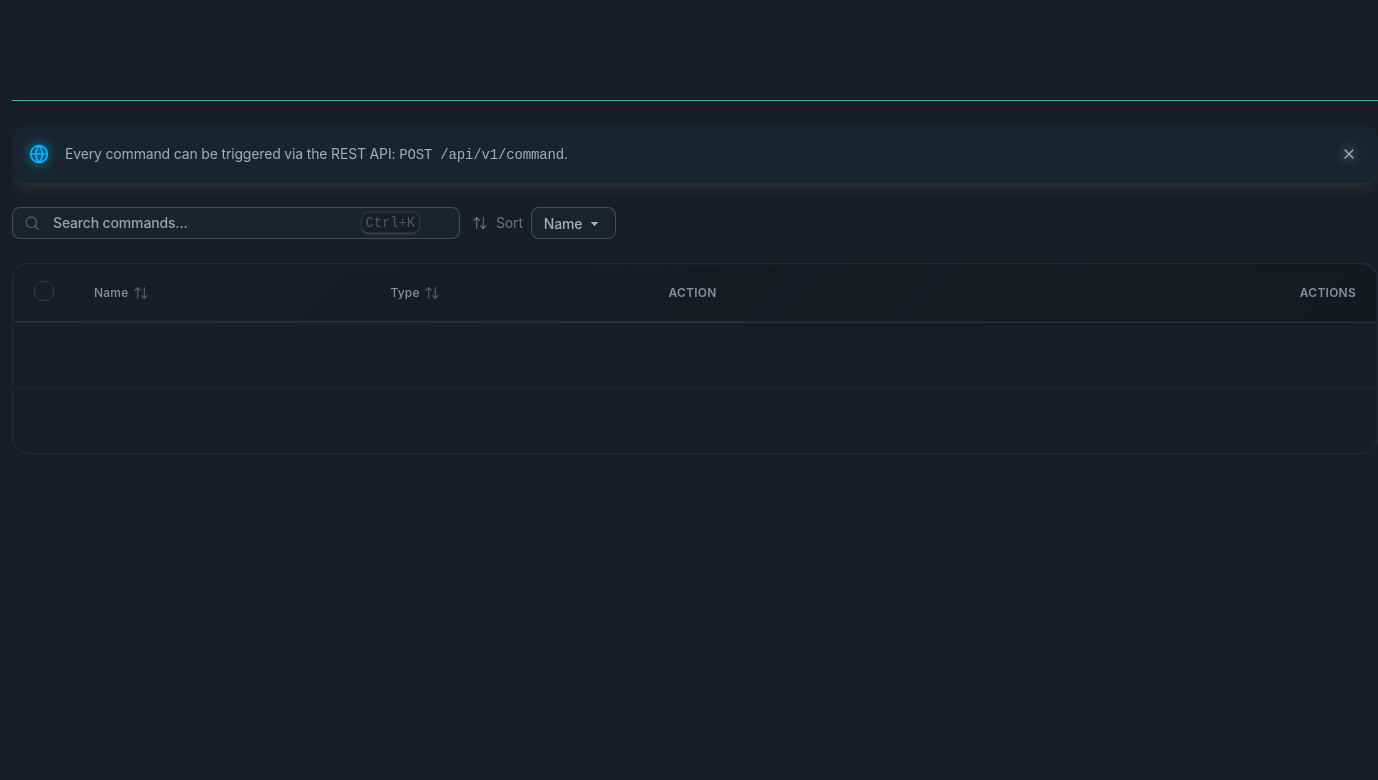
Test: the select-all checkbox selects every visible command and shows the bulk bar
The table's select-all header checkbox selects all filtered commands.
Click the checkbox named "Select all commands". click: (44, 291)
box: [34,281,54,301]
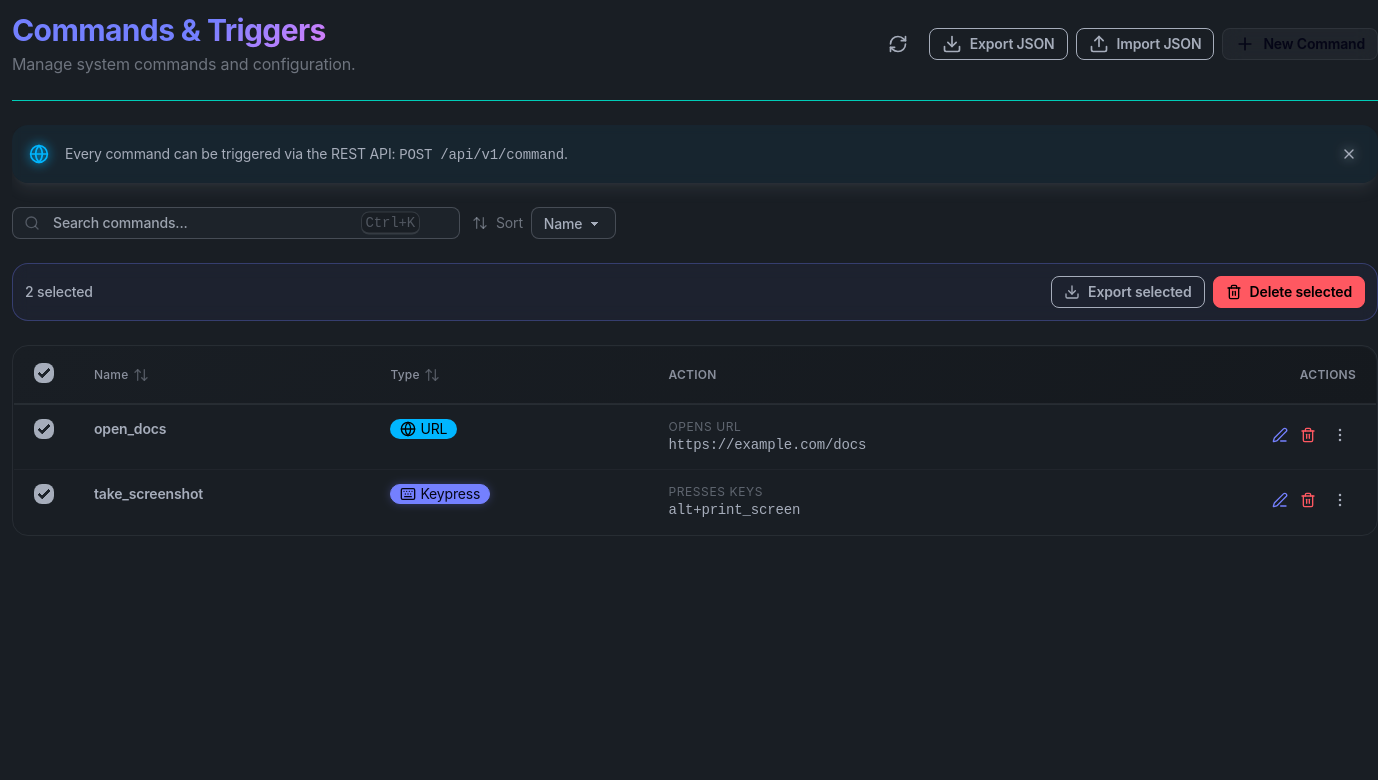
Now the text "2 selected" is shown, box [25,282,93,302]
Now the checkbox named "Select take_screenshot" is checked, box [34,484,54,504]
Now the checkbox named "Select open_docs" is checked, box [34,419,54,439]
